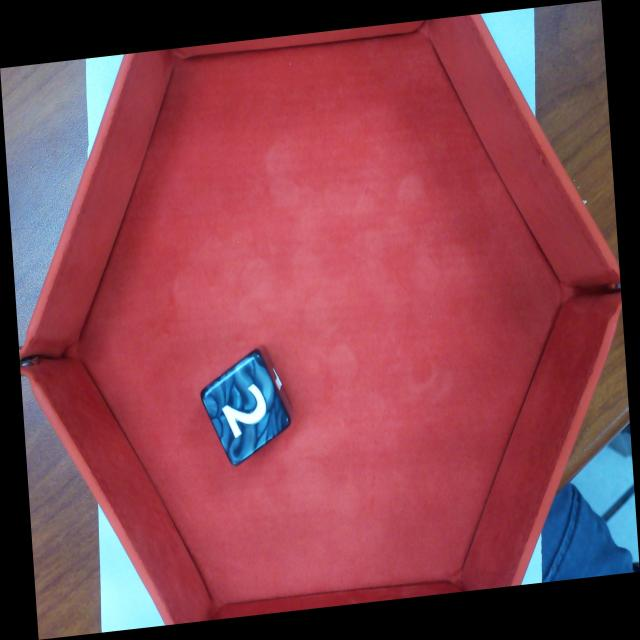dice: (201, 350, 290, 467)
